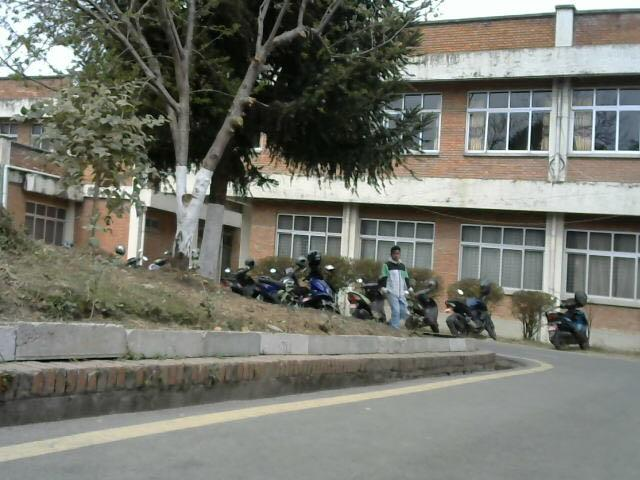Building: (415, 17, 640, 294)
Motorcycle: (239, 251, 371, 317), (543, 284, 609, 356), (448, 277, 516, 342)
Road: (0, 350, 640, 480)
Tree: (1, 0, 434, 279), (382, 235, 415, 330)
